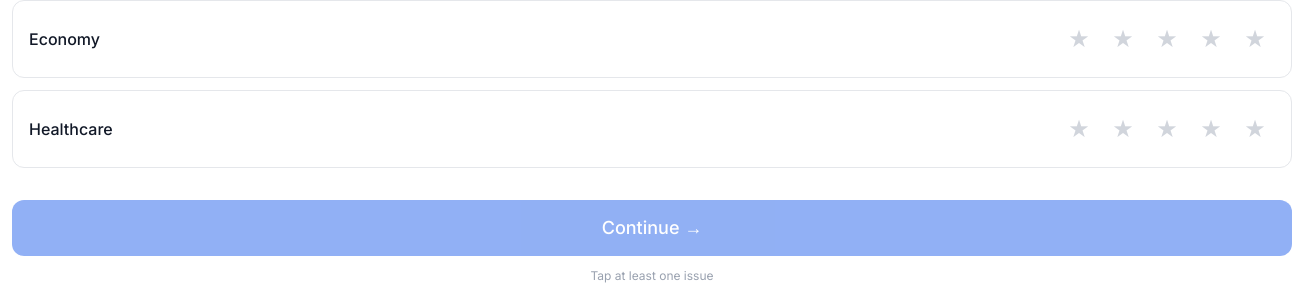
Test case: QuickPoll › Continue is disabled until at least one issue is rated
Expected: the button "Continue →" is disabled, [12,200,1292,256]
Click the button named "4 stars" at [1211, 39], box [1189,17,1233,61]
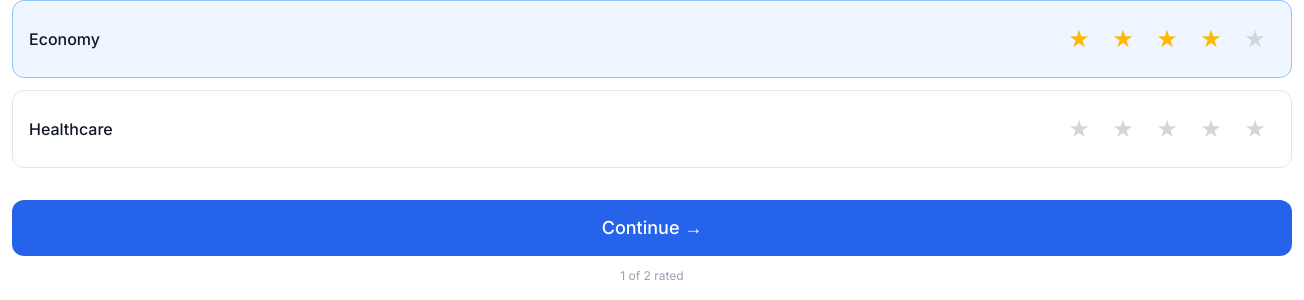
Now the button "Continue →" is enabled, box [12,200,1292,256]
